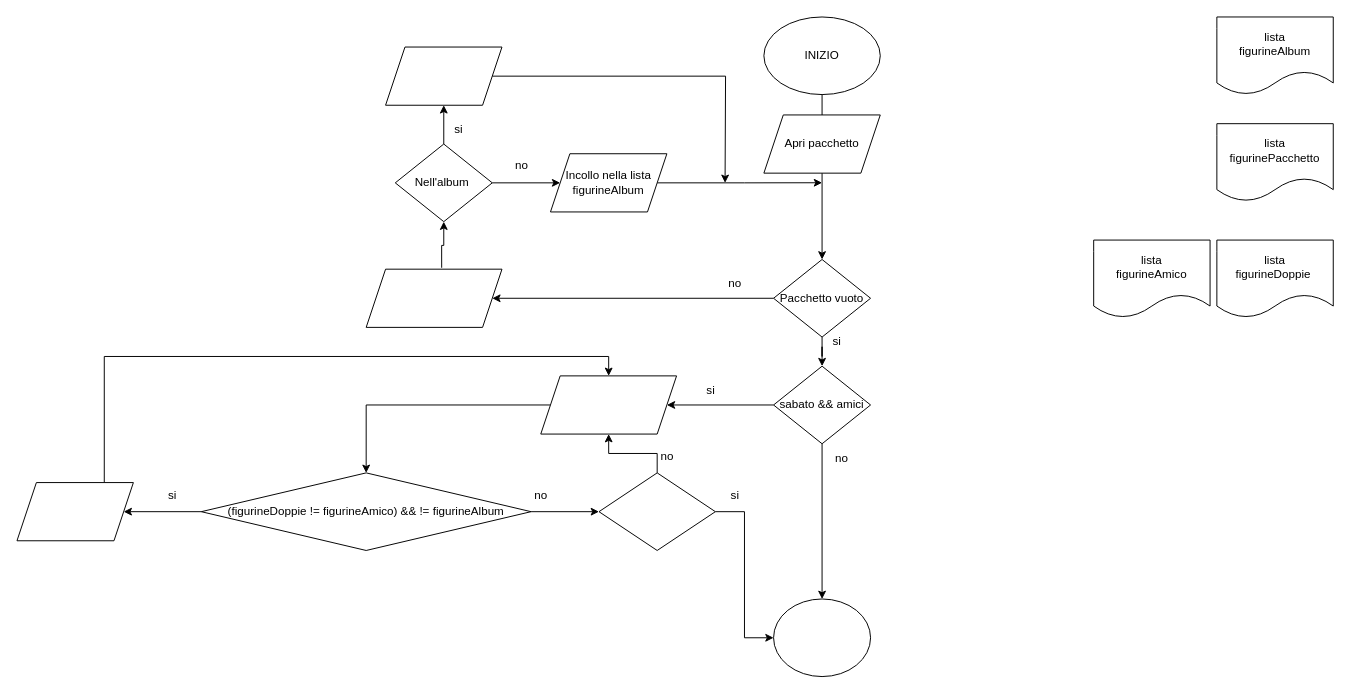
Some shapes in this 1350 by 694 pixel diagram are drawn without their labels. Each missing label, with the centre of its shape:
+1 figurineAlbum -1 figurineDoppie: point (74, 511)
figurineDoppie = 0: point (656, 511)
FINE: point (822, 637)
Metto nella lista figurineDoppie: point (443, 75)
Prendo una figurina: figurineDoppie: point (608, 404)
Sfila una figurina dal pacchetto: point (433, 297)
